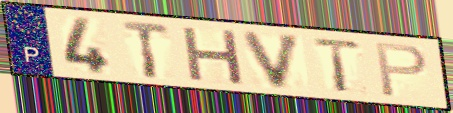4: (61, 15, 113, 76)
H: (179, 24, 247, 87)
P: (373, 41, 430, 99)
T: (120, 19, 173, 81), (311, 36, 364, 94)
V: (239, 29, 306, 92)
